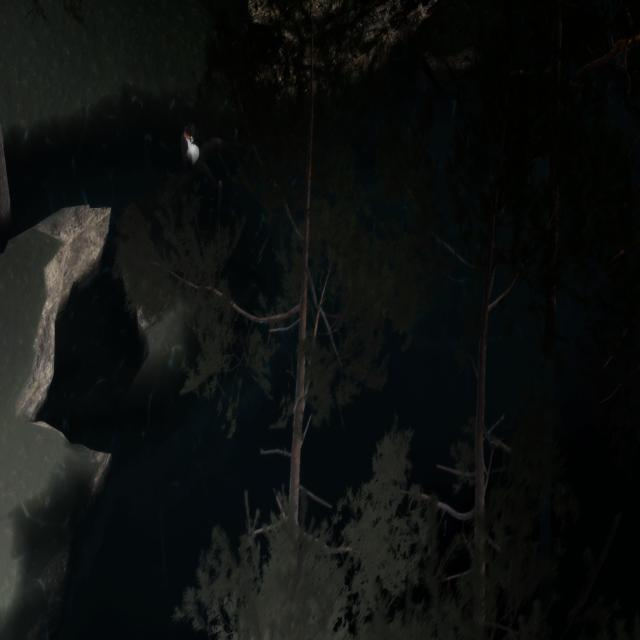Human: (176, 110, 220, 186)
